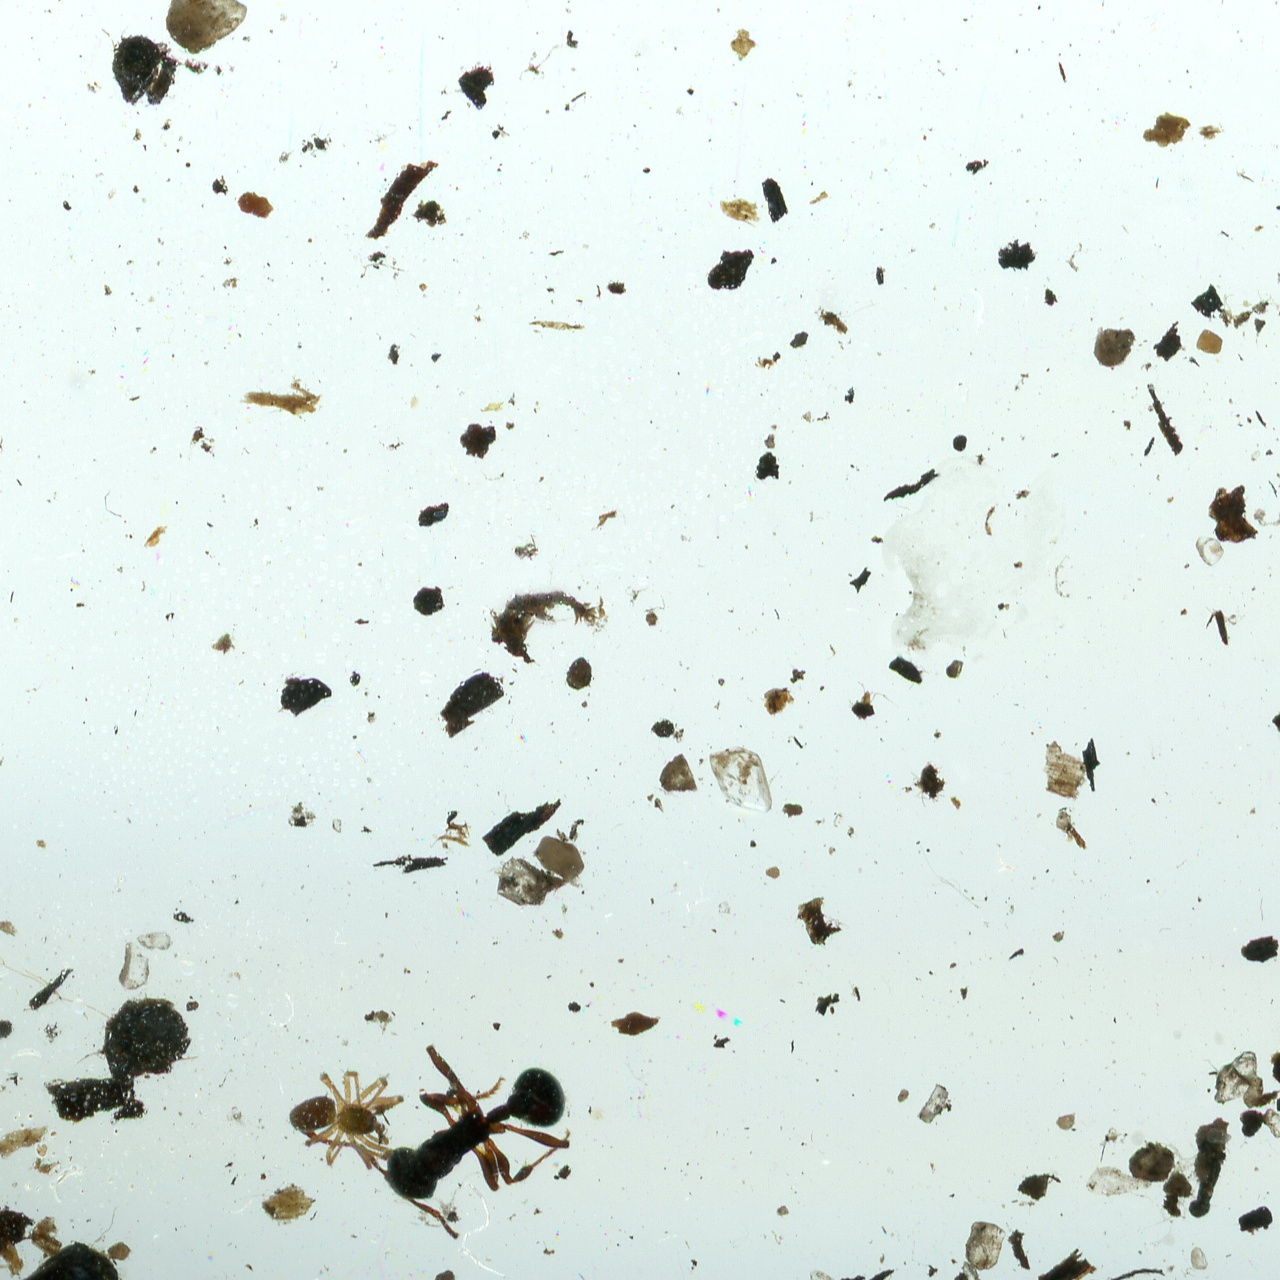arthropod: (294, 981, 601, 1279), (287, 1068, 406, 1172)
